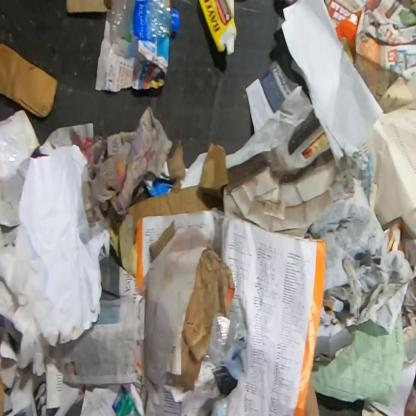cardboard: (106, 138, 230, 277), (167, 244, 236, 394), (0, 42, 60, 120), (324, 0, 383, 64), (196, 0, 239, 57), (148, 220, 176, 264), (304, 377, 322, 415), (65, 0, 113, 14)
rigid_plastic: (105, 0, 181, 43)
soft_plastic: (0, 125, 31, 209), (224, 328, 253, 382), (208, 312, 232, 368), (210, 394, 231, 415)
